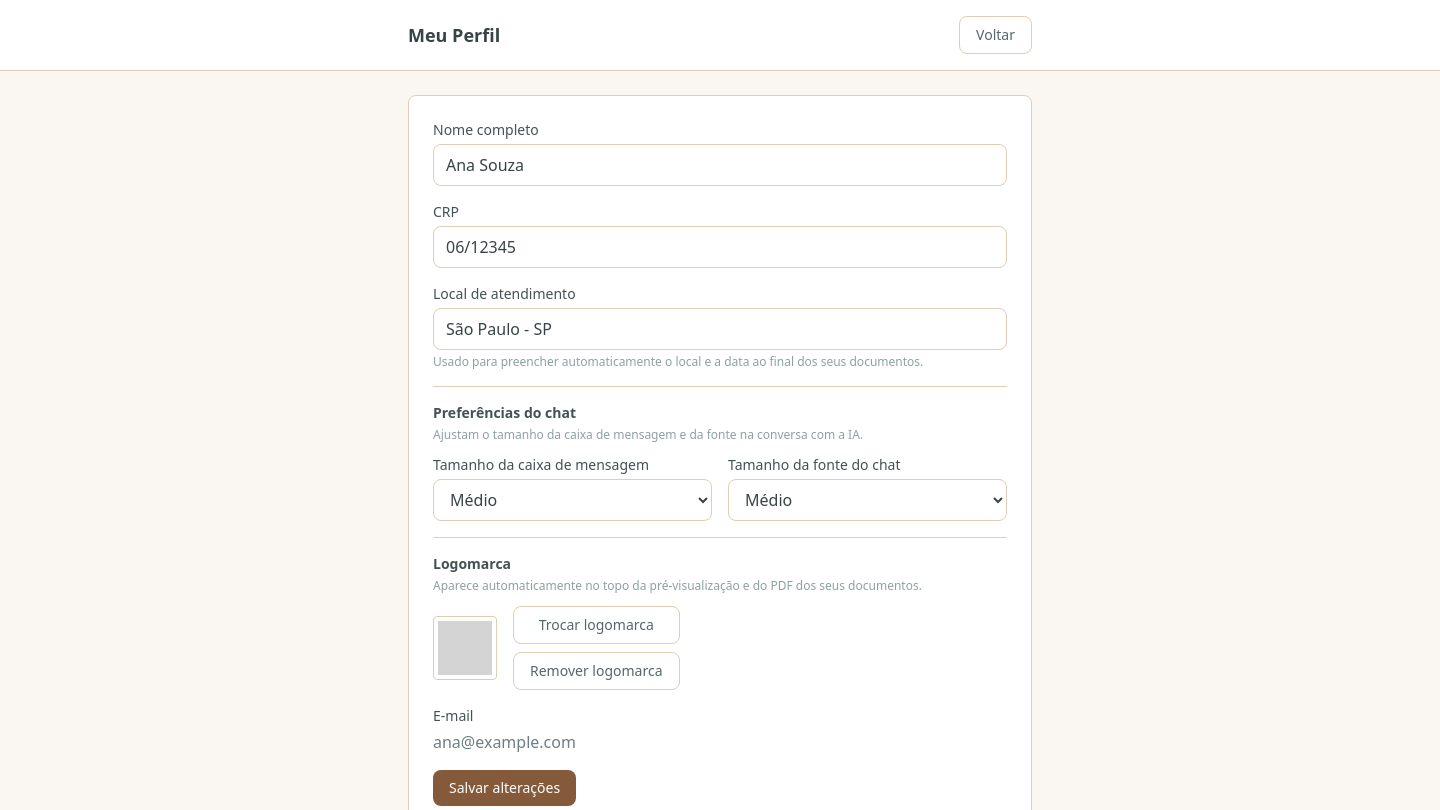
PerfilPage › logomarca › removes an existing logo
Click the button "Remover logomarca". click: click(596, 671)
box: [513, 652, 680, 690]
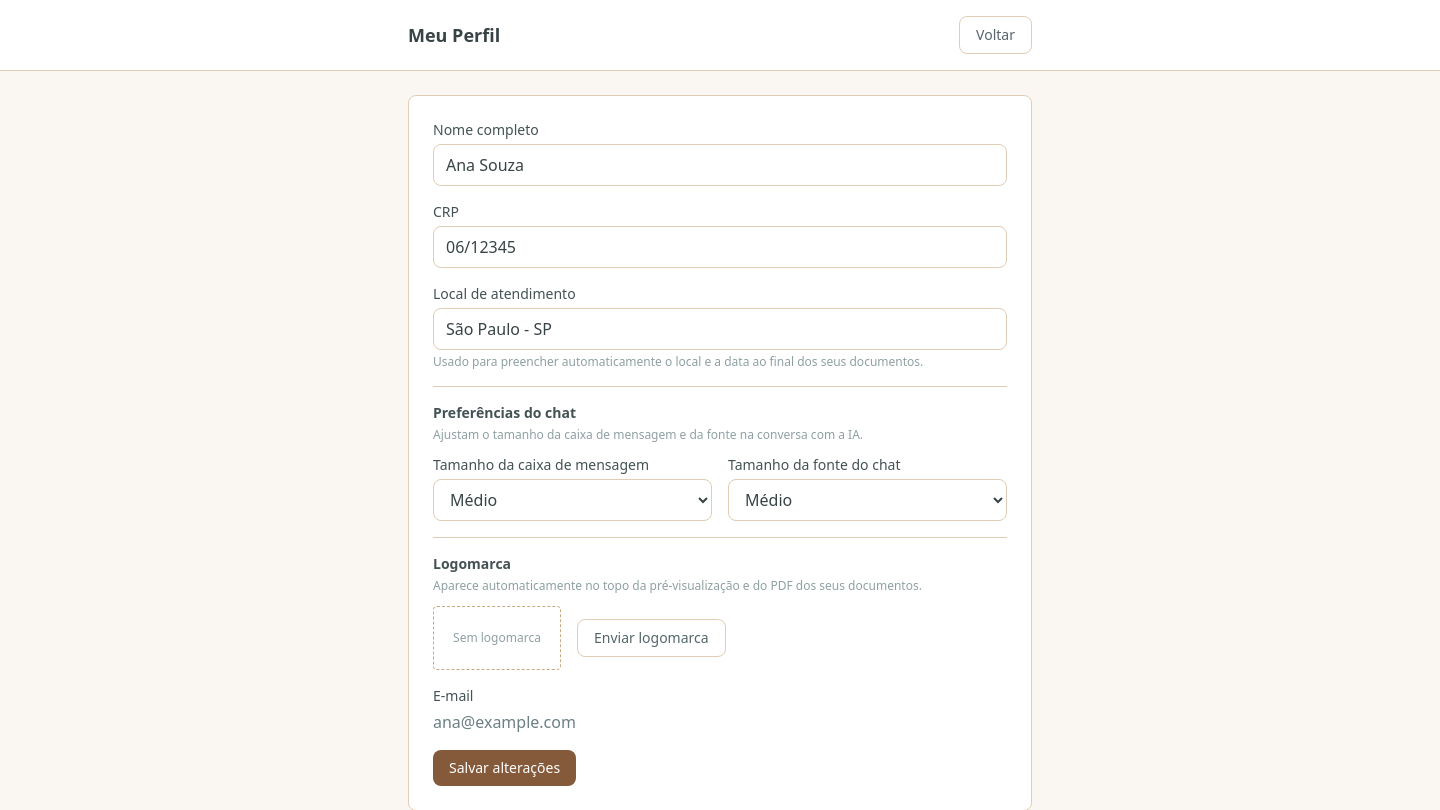
expect the text "Sem logomarca" is shown: met, box [433, 606, 561, 670]
